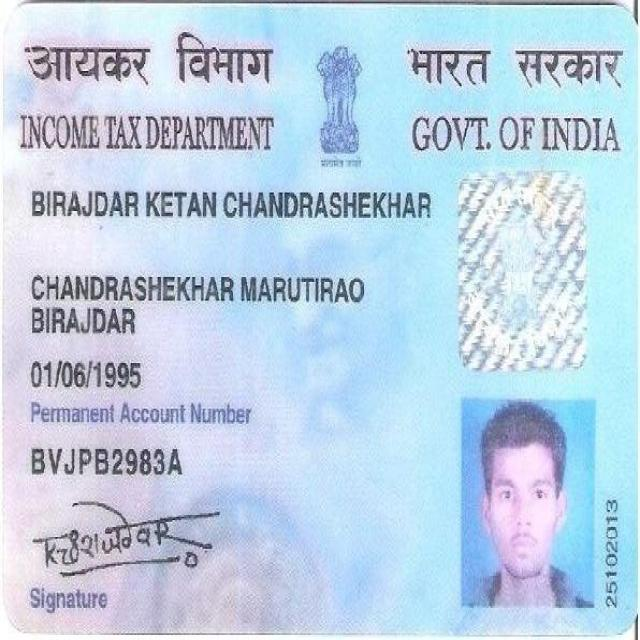pan_card: (8, 15, 636, 628)
